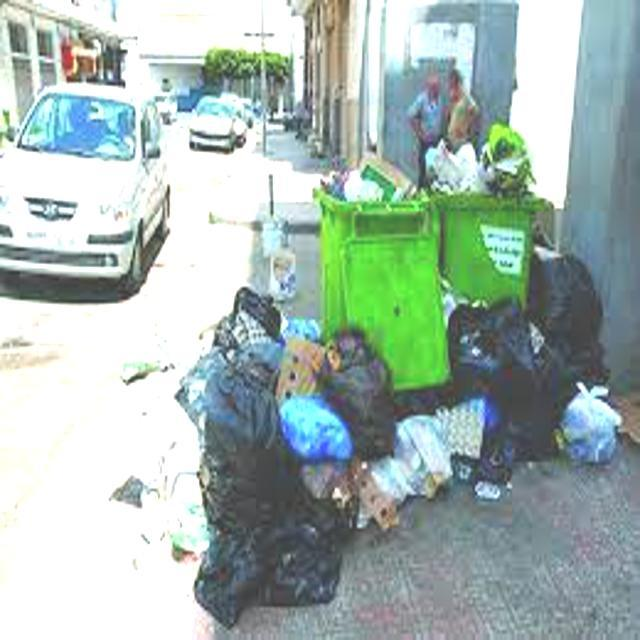high trash: (178, 214, 620, 626)
